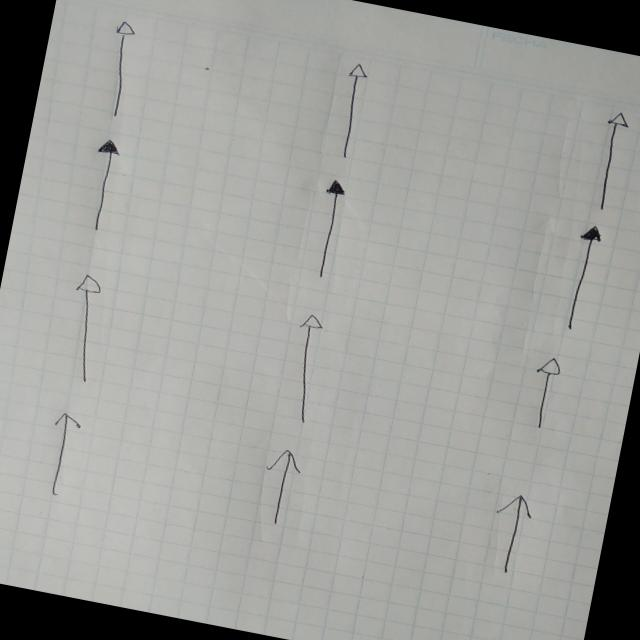arrow_line_up: (56, 272, 116, 386), (280, 312, 330, 426), (98, 19, 146, 120), (588, 109, 632, 215), (560, 222, 602, 332), (484, 490, 536, 577), (306, 176, 348, 282), (80, 136, 124, 235), (330, 60, 372, 161), (39, 410, 84, 499), (256, 446, 304, 526), (525, 353, 565, 431)
